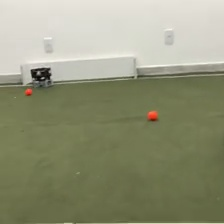ball: (146, 108, 159, 121), (23, 85, 33, 96)
goal: (19, 53, 139, 87)
robot: (29, 64, 54, 88)
